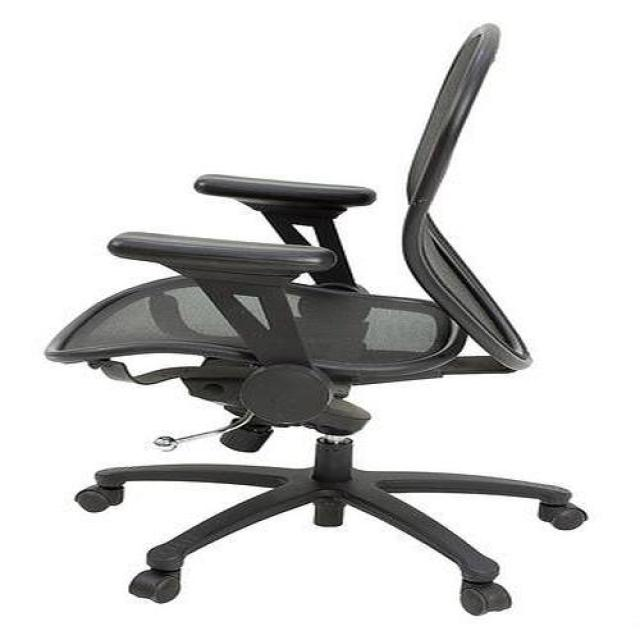swivelchair: (42, 24, 589, 618)
